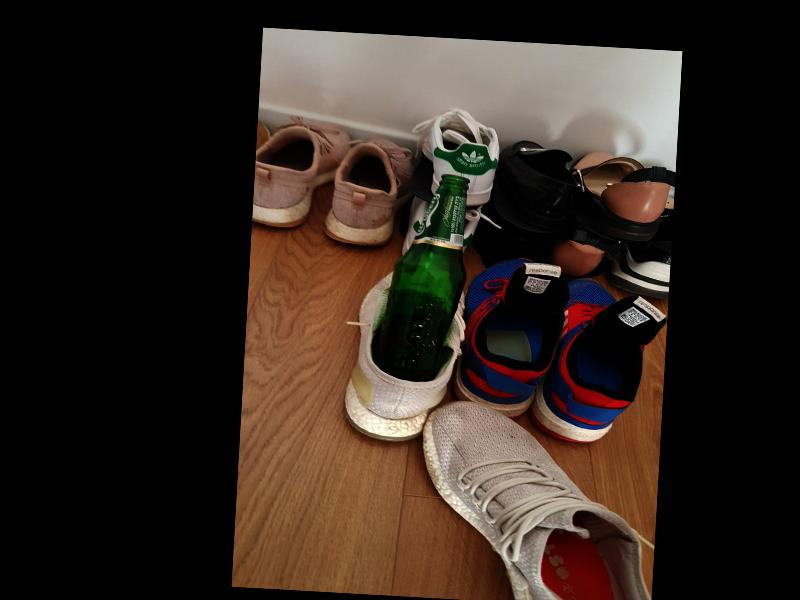Beer: (372, 173, 472, 383)
